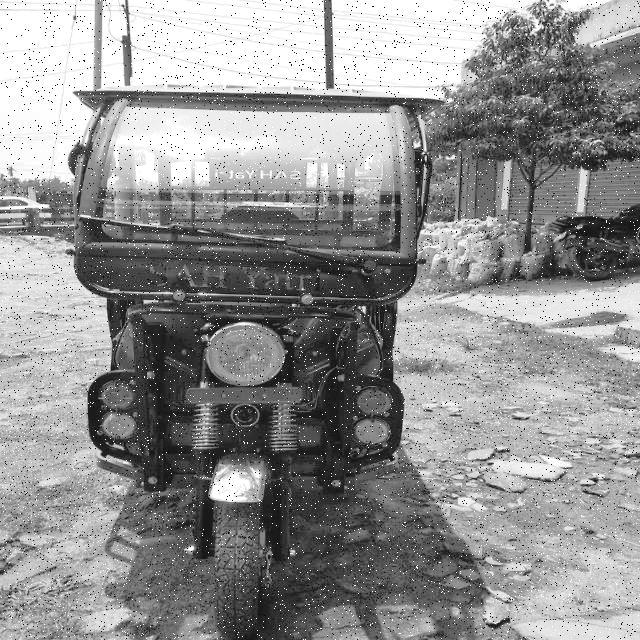Toto: (50, 64, 460, 640)
